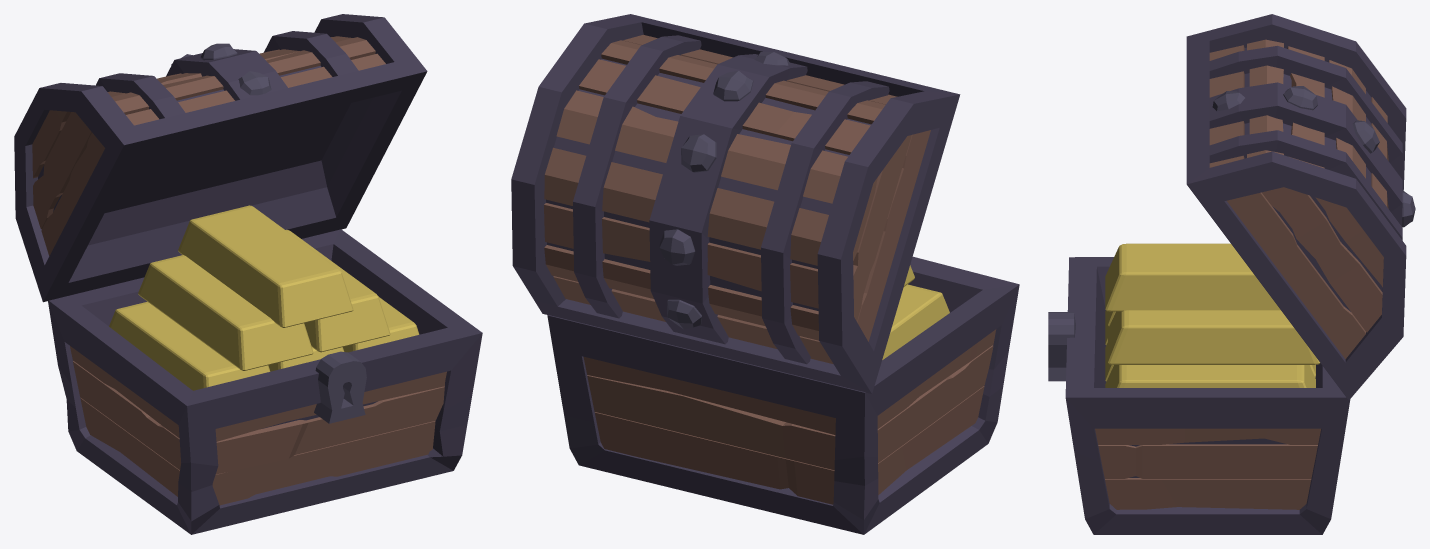
The model's file is Chest_Ingots.glb.
3 renders of one model, left to right at view 1: azimuth 30°, elevation 25°; view 2: azimuth 150°, elevation 25°; view 3: azimuth 270°, elevation 25°, orthographic. The views are drawn at different scales.
Parts seen in each view (by area): view 1: Chest_Ingots; view 2: Chest_Ingots; view 3: Chest_Ingots.
Boxes of the visible parts, x1,y1,x2,y2 form: Chest_Ingots: (14, 14, 482, 534); Chest_Ingots: (511, 14, 1019, 534); Chest_Ingots: (1048, 14, 1415, 534).
Bounding box in the file's own units: 0.9496 × 1.15 × 0.9962.
